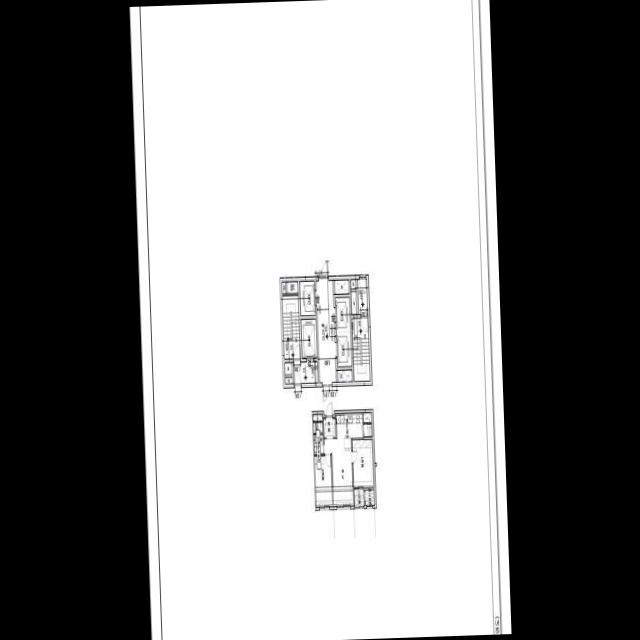background: (129, 0, 511, 640)
space_balconi: (354, 488, 364, 505)
space_bedroom: (352, 439, 374, 487), (314, 455, 332, 506)
space_elevator: (301, 318, 317, 357), (299, 280, 315, 314), (336, 331, 351, 365), (335, 297, 350, 331)
space_elevator_hall: (316, 280, 336, 381), (293, 361, 317, 382), (357, 279, 367, 313)
space_front: (323, 417, 335, 438)
space_kitchen: (335, 412, 363, 438)
space_living_room: (324, 437, 353, 505)
space_other: (334, 279, 349, 293), (337, 369, 352, 381), (287, 281, 298, 292), (351, 291, 356, 313), (363, 423, 372, 435), (284, 362, 292, 373), (363, 412, 371, 421), (313, 413, 322, 420), (350, 279, 356, 288), (282, 281, 286, 292), (285, 377, 292, 383), (313, 422, 315, 432)
space_outdoor_room: (365, 489, 374, 504)
space_staircase: (282, 295, 300, 358), (352, 317, 370, 380)
space_toilet: (313, 422, 323, 453)
